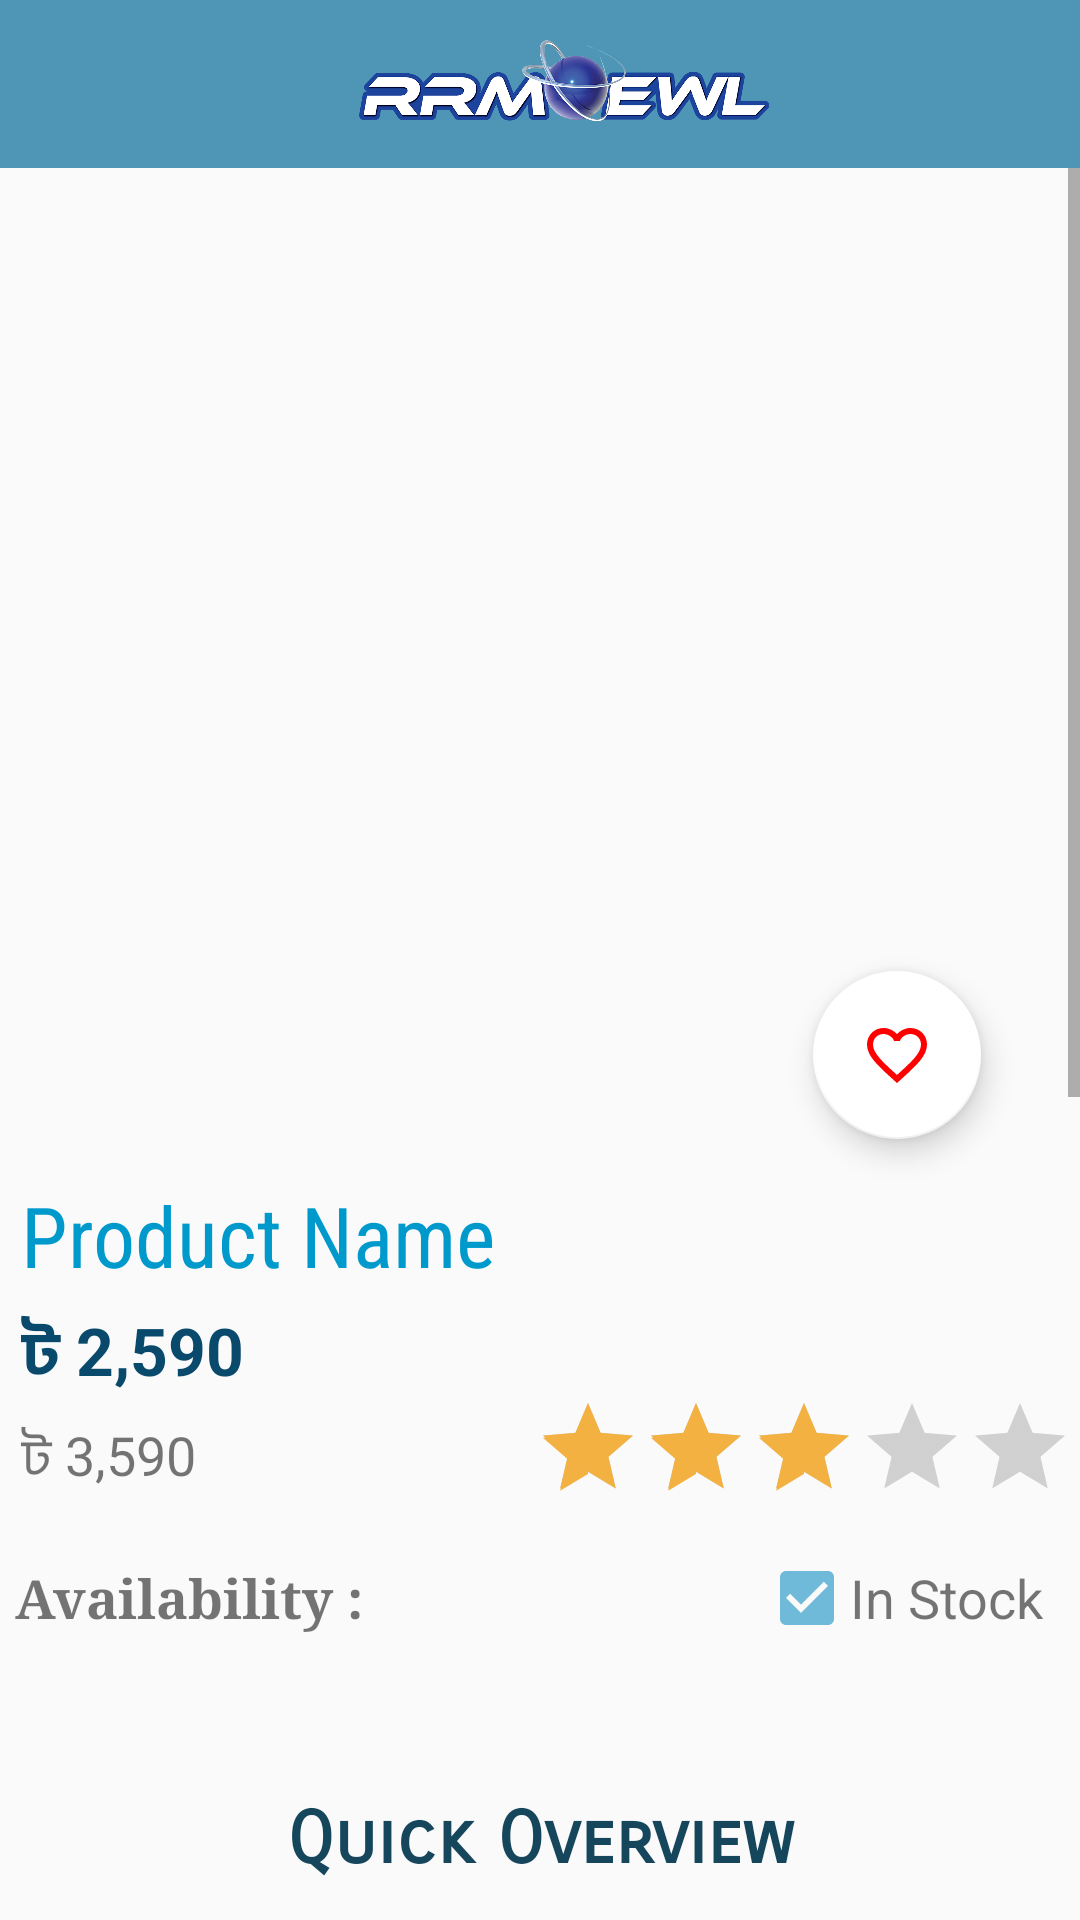

Screen size 1080*1920. Icon name, then its box in pixels as (x1, y1, x2, y2):
heart: (819, 1028, 927, 1094)
